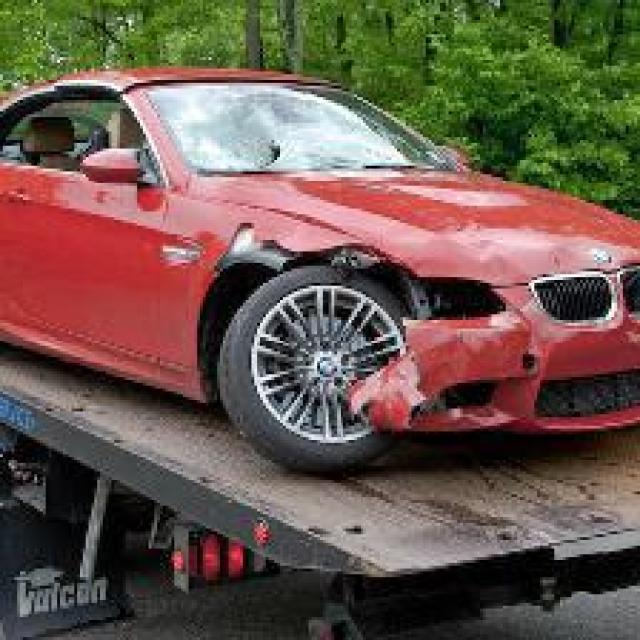damaged: (183, 212, 540, 452), (152, 86, 348, 180)
